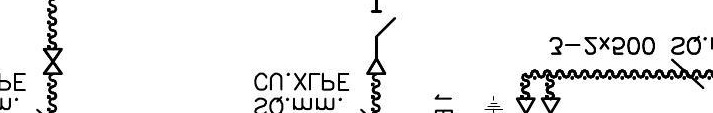terminator_single: (365, 57, 388, 76)
terminator_splicing_kits: (42, 48, 63, 76)
